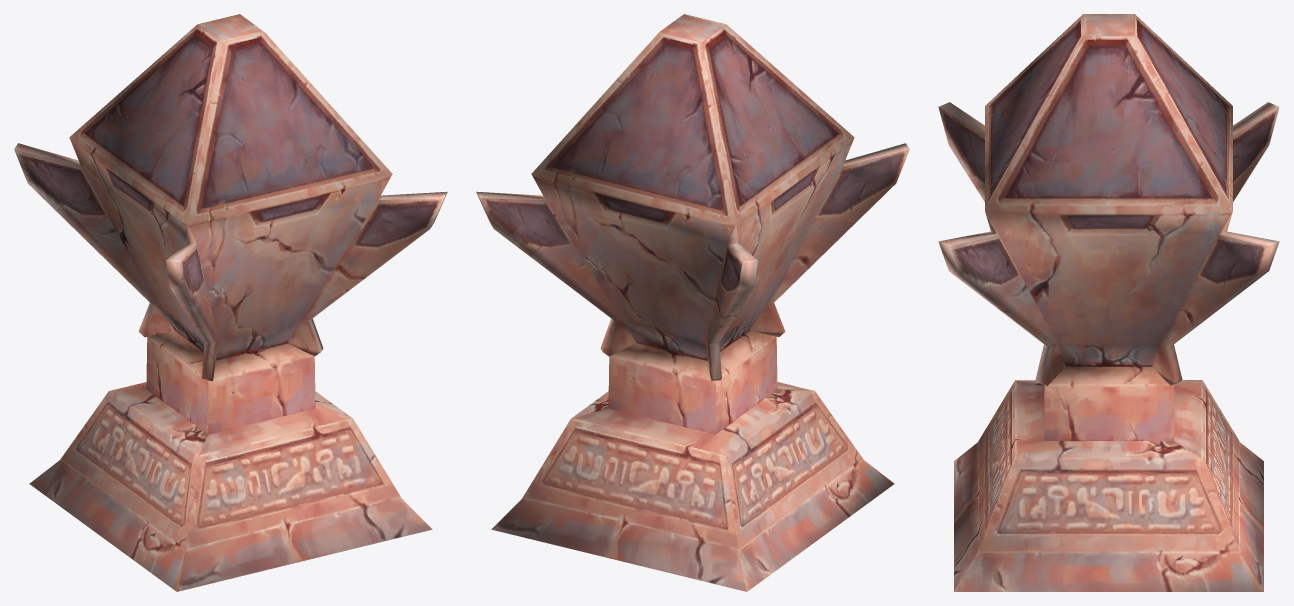
The model's file is kor_tomb_item_urn.glb.
3 views of the same model, side by side, from view 1: azimuth 30°, elevation 25°; view 2: azimuth 150°, elevation 25°; view 3: azimuth 270°, elevation 25° (orthographic). The views are drawn at different scales.
Parts seen in each view (by area): view 1: kor_tomb_item_urn; view 2: kor_tomb_item_urn; view 3: kor_tomb_item_urn.
Boxes of the visible parts, x1,y1,x2,y2 form: kor_tomb_item_urn: (14,14,447,591); kor_tomb_item_urn: (476,14,909,591); kor_tomb_item_urn: (938,14,1279,591).
Size of the model in its own units: 0.2361 by 0.3829 by 0.2361.
1 material, 1 textured.
